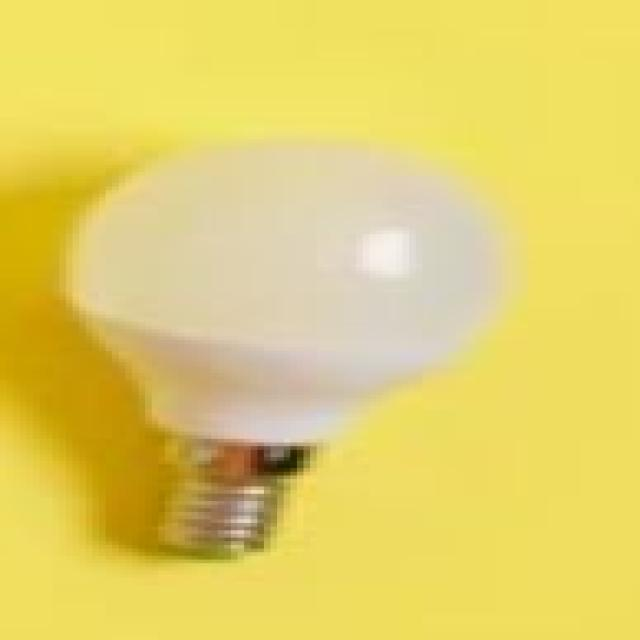electronic: (53, 135, 521, 556)
